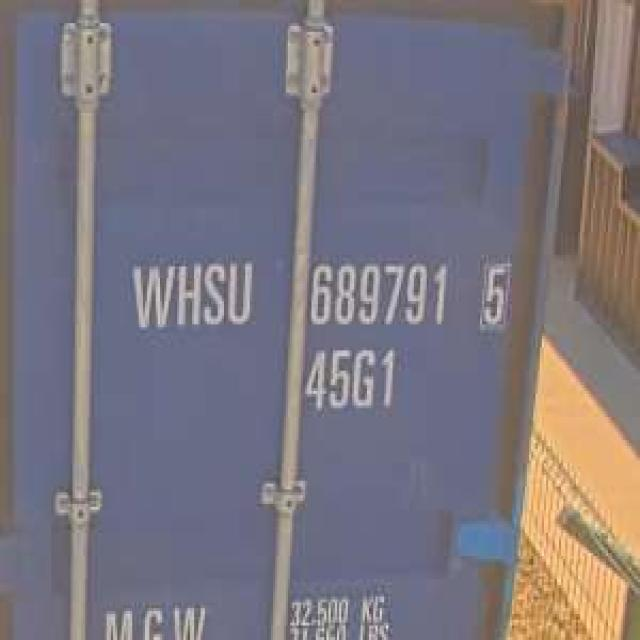dv: (472, 253, 514, 332)
owner: (122, 254, 263, 339)
serial: (304, 252, 451, 331)
size: (302, 342, 401, 415)
